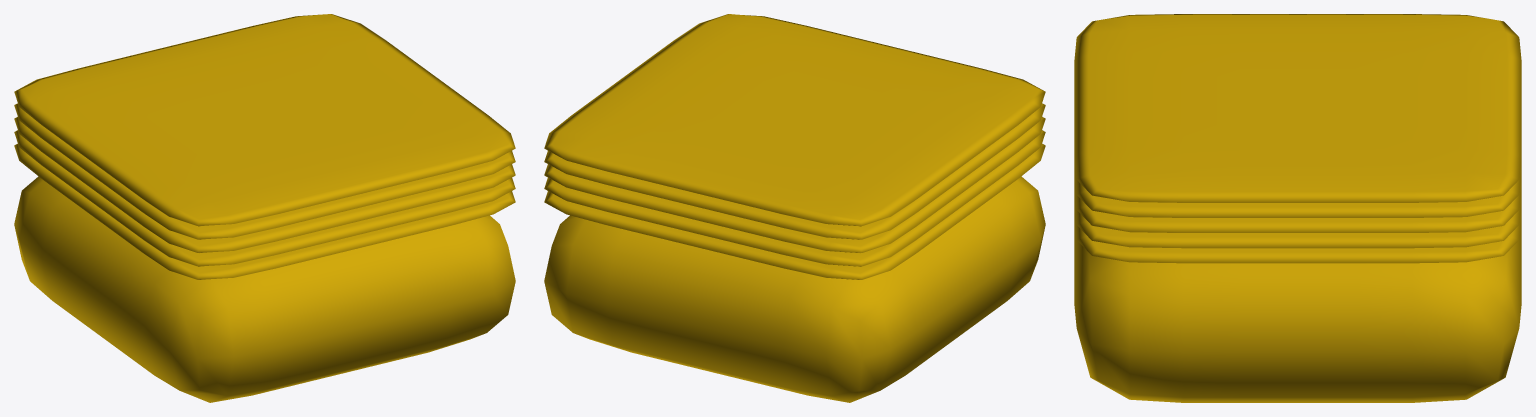
File: Supermarket_Run_Cheddar.fbx
3 views of the same model, side by side, from view 1: azimuth 30°, elevation 25°; view 2: azimuth 150°, elevation 25°; view 3: azimuth 270°, elevation 25° (orthographic). The views are drawn at different scales.
Parts seen in each view (by area): view 1: Cheddar.001, Cheddar; view 2: Cheddar.001, Cheddar; view 3: Cheddar.001, Cheddar.
Boxes of the visible parts, x1=… form: Cheddar.001: x1=14, y1=14, x2=515, y2=279; Cheddar: x1=14, y1=176, x2=515, y2=402; Cheddar.001: x1=544, y1=14, x2=1045, y2=279; Cheddar: x1=544, y1=176, x2=1045, y2=402; Cheddar.001: x1=1074, y1=14, x2=1521, y2=263; Cheddar: x1=1074, y1=218, x2=1521, y2=402.
Size of the model in its own units: 205 by 119 by 205.
